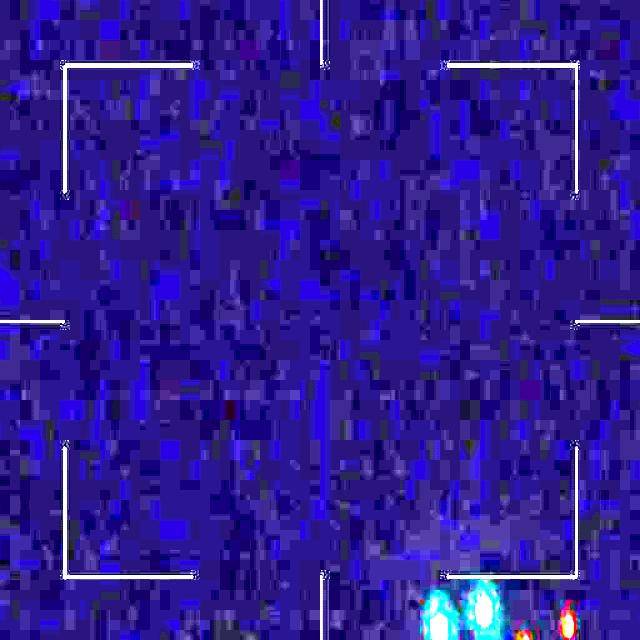bird: (429, 590, 574, 640)
